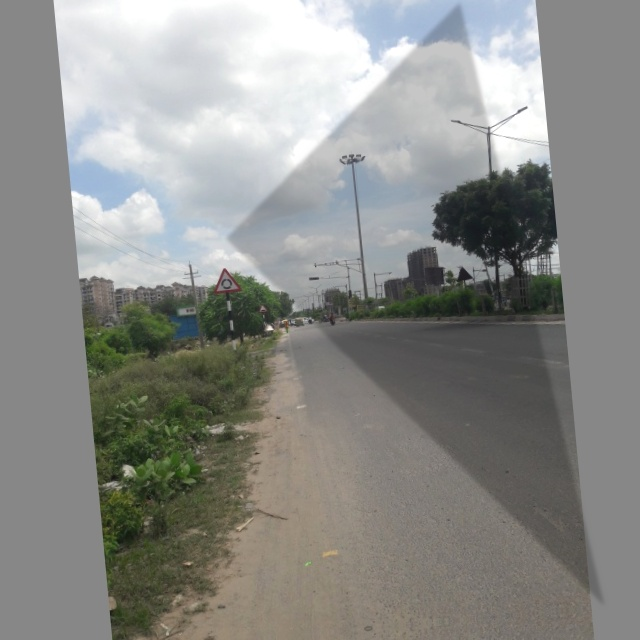Round_About: (208, 263, 246, 298)
